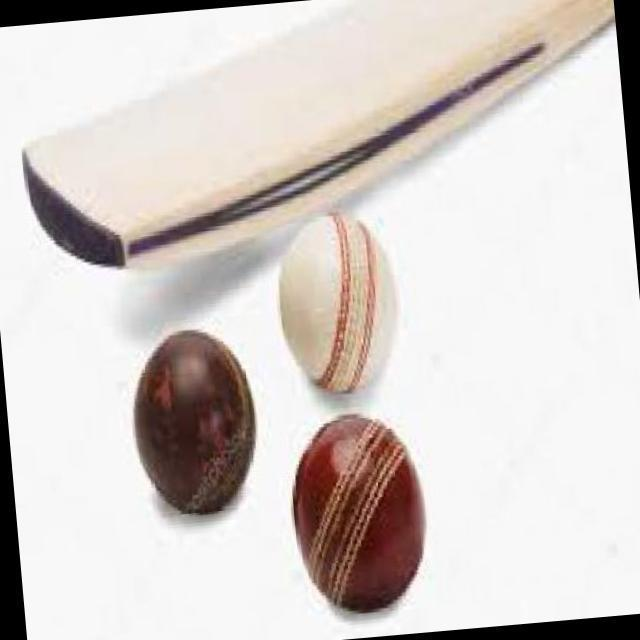-: (287, 397, 450, 612), (264, 200, 417, 404), (122, 322, 267, 519)
